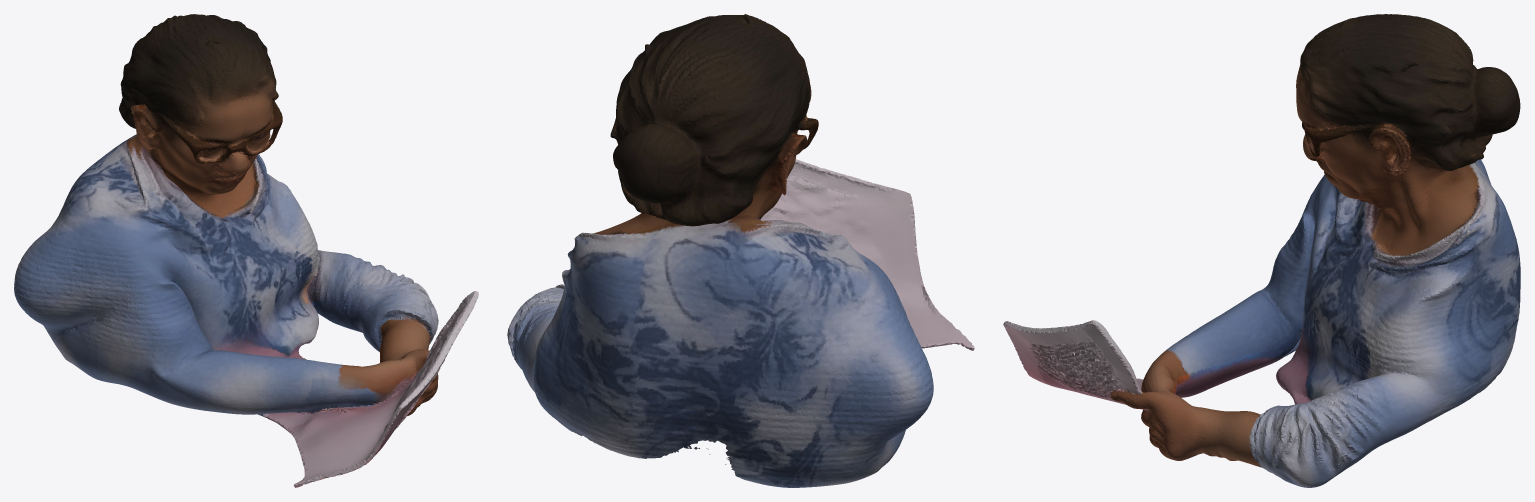
The model's file is meme2_woman.fbx.
3 renders of one model, left to right at view 1: azimuth 30°, elevation 25°; view 2: azimuth 150°, elevation 25°; view 3: azimuth 270°, elevation 25°, orthographic. The views are drawn at different scales.
Visible parts, largest first — view 1: tripo_node_a727060a-afb6-4ad4-ab46-0d0e1320ec6c; view 2: tripo_node_a727060a-afb6-4ad4-ab46-0d0e1320ec6c; view 3: tripo_node_a727060a-afb6-4ad4-ab46-0d0e1320ec6c.
Part boxes in pixels (bbox=[...]): tripo_node_a727060a-afb6-4ad4-ab46-0d0e1320ec6c: bbox=[14, 14, 478, 487]; tripo_node_a727060a-afb6-4ad4-ab46-0d0e1320ec6c: bbox=[507, 14, 974, 487]; tripo_node_a727060a-afb6-4ad4-ab46-0d0e1320ec6c: bbox=[1003, 14, 1520, 487].
Bounding box in the file's own units: 90.39 × 81.04 × 100.
1 material, 1 textured.
